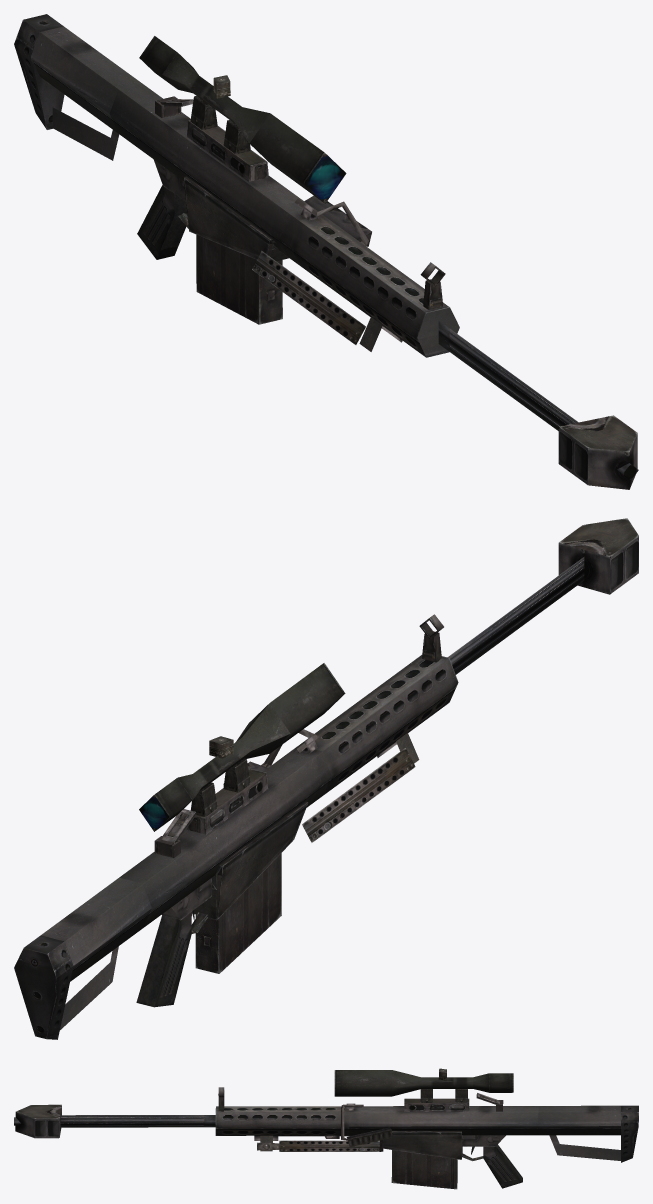
3 views of the same model, one above another, from view 1: azimuth 30°, elevation 25°; view 2: azimuth 150°, elevation 25°; view 3: azimuth 270°, elevation 25° (orthographic). The views are drawn at different scales.
Parts seen in each view (by area): view 1: sm4_st4; view 2: sm4_st4; view 3: sm4_st4.
Boxes of the visible parts, box(x1,y1,x2,y2) form: sm4_st4: box(14, 14, 638, 489); sm4_st4: box(14, 518, 638, 1039); sm4_st4: box(14, 1068, 638, 1189).
Bounding box in the file's own units: 10.95 × 25.47 × 124.
